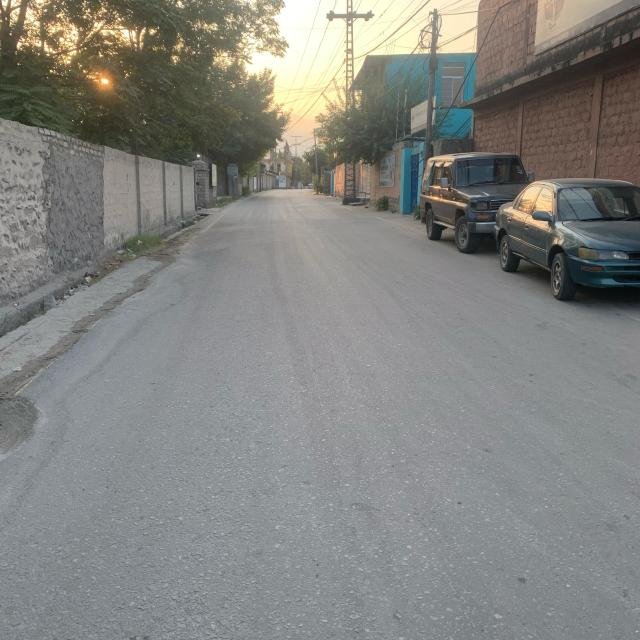straight: (260, 188, 326, 455)
